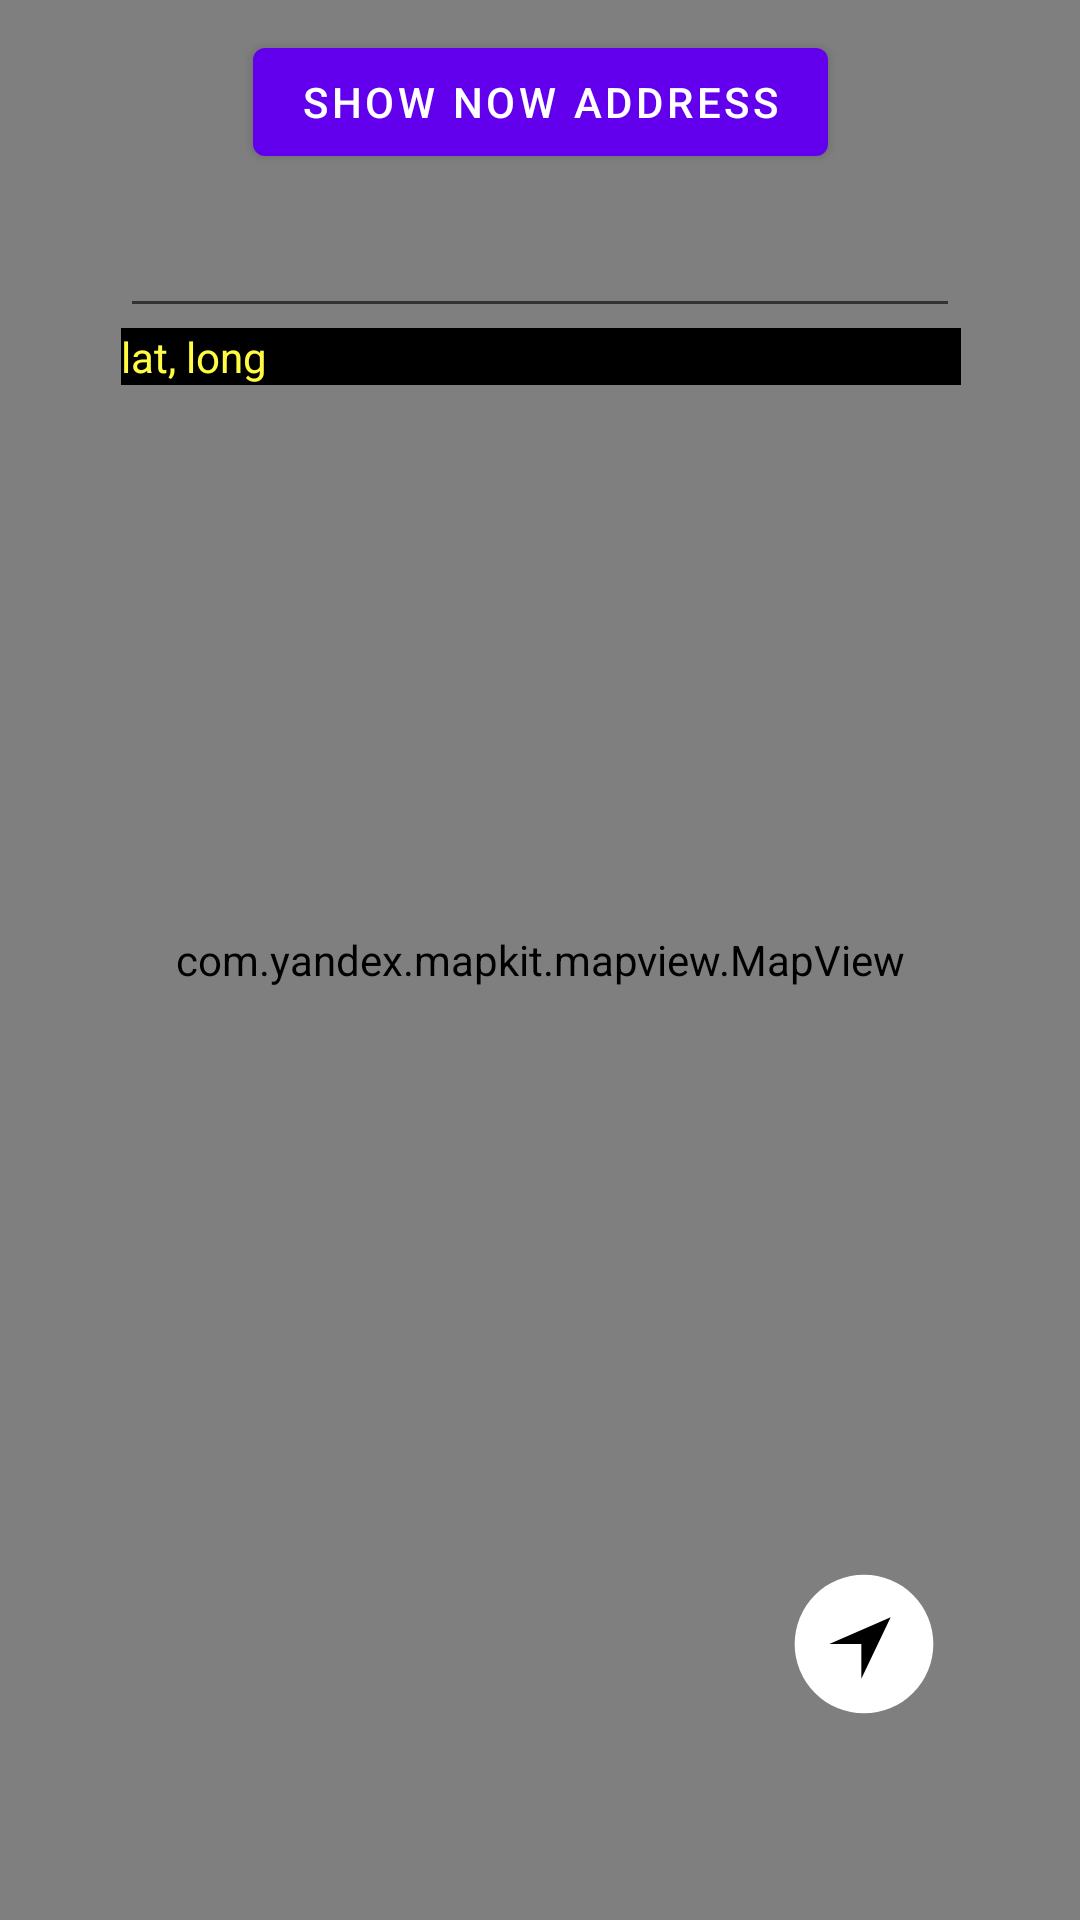

Icon bounding boxes for this 1080px×1920px phone screenshot, format (x1, y1, x2, y2):
location current: (794, 1574, 934, 1714)
